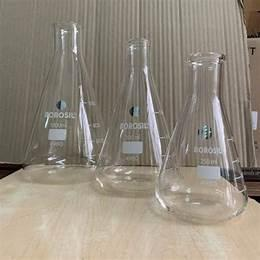Titrarion: (32, 12, 104, 194), (110, 21, 178, 205), (186, 26, 247, 224)
